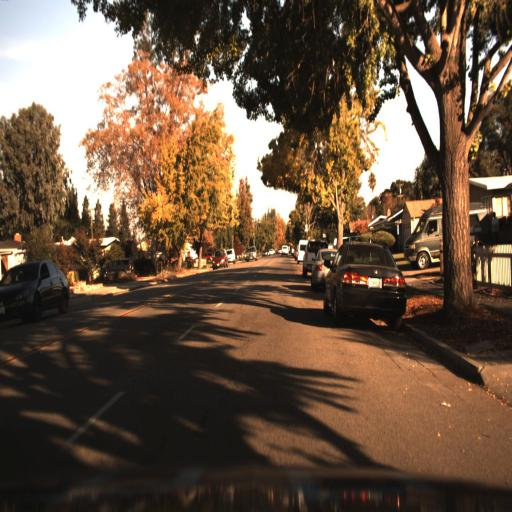car: (323, 234, 411, 340), (403, 205, 490, 272), (0, 260, 70, 328), (89, 247, 145, 283), (300, 236, 326, 277), (309, 247, 329, 295), (210, 245, 228, 271), (212, 247, 230, 272), (243, 241, 258, 263), (183, 248, 197, 271), (224, 246, 237, 261)
